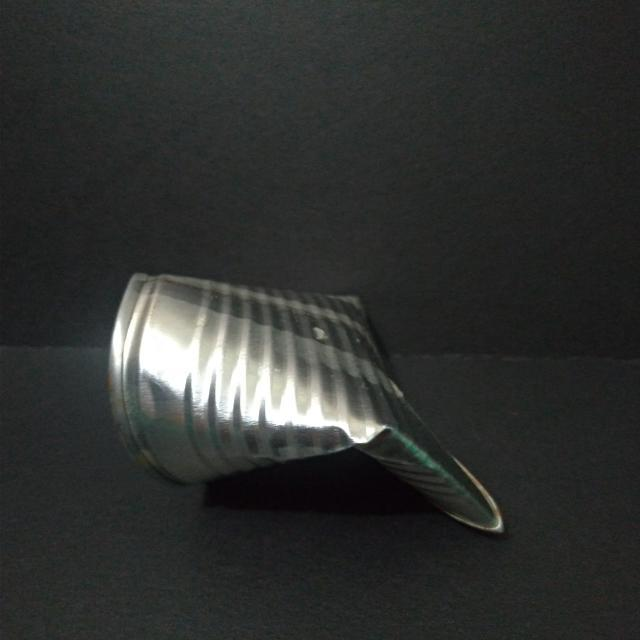metal-can: (105, 268, 508, 538)
